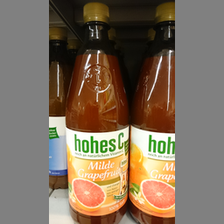juice: (66, 2, 130, 224), (129, 6, 175, 223)
